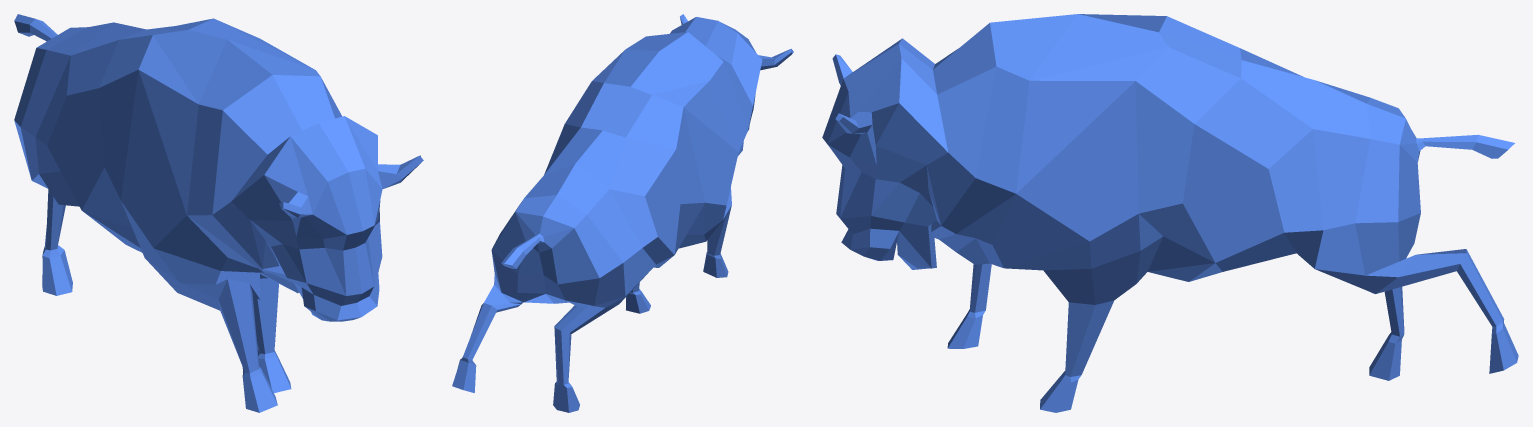
The model's file is bison_009.obj.
3 views of the same model, side by side, from view 1: azimuth 30°, elevation 25°; view 2: azimuth 150°, elevation 25°; view 3: azimuth 270°, elevation 25° (orthographic). The views are drawn at different scales.
Visible parts, largest first — view 1: comp_bison_rig:bison_body comp_bison_rig:bison; view 2: comp_bison_rig:bison_body comp_bison_rig:bison; view 3: comp_bison_rig:bison_body comp_bison_rig:bison.
Part boxes in pixels (bbox=[...]): comp_bison_rig:bison_body comp_bison_rig:bison: bbox=[14, 14, 423, 412]; comp_bison_rig:bison_body comp_bison_rig:bison: bbox=[452, 14, 793, 412]; comp_bison_rig:bison_body comp_bison_rig:bison: bbox=[822, 14, 1518, 412].
Size of the model in its own units: 112 by 195 by 331.
